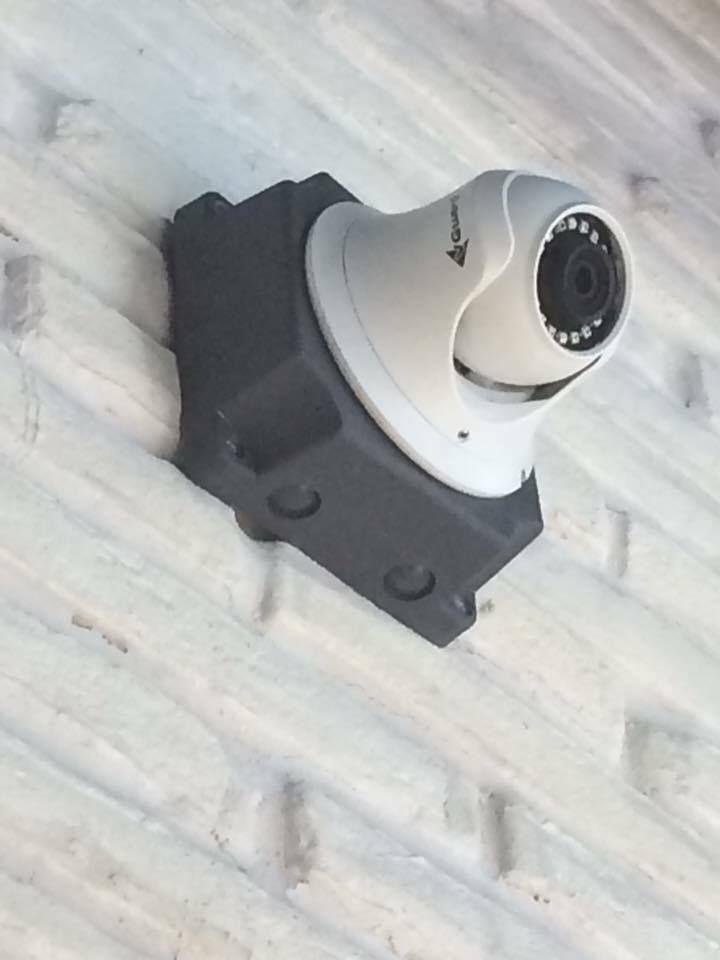CCTV: (166, 169, 633, 647)
